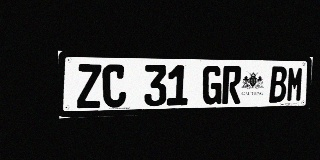1: (167, 65, 188, 106)
3: (144, 65, 167, 106)
B: (269, 66, 287, 103)
C: (102, 64, 126, 108)
G: (202, 65, 222, 105)
M: (286, 66, 304, 102)
R: (222, 66, 242, 104)
Z: (76, 64, 102, 109)
